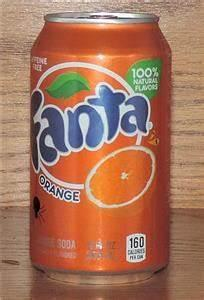metal: (30, 14, 172, 278)
